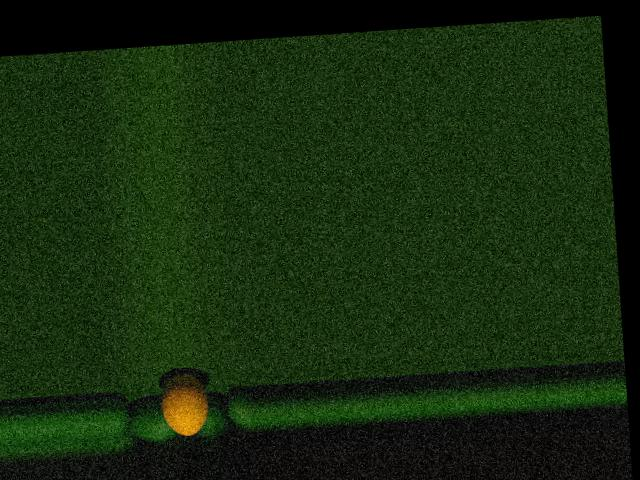egg: (158, 371, 210, 436)
